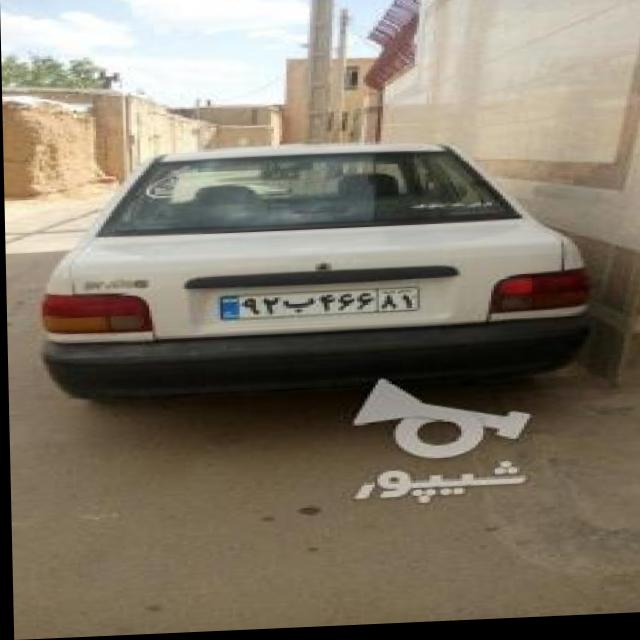licence: (210, 286, 416, 321)
